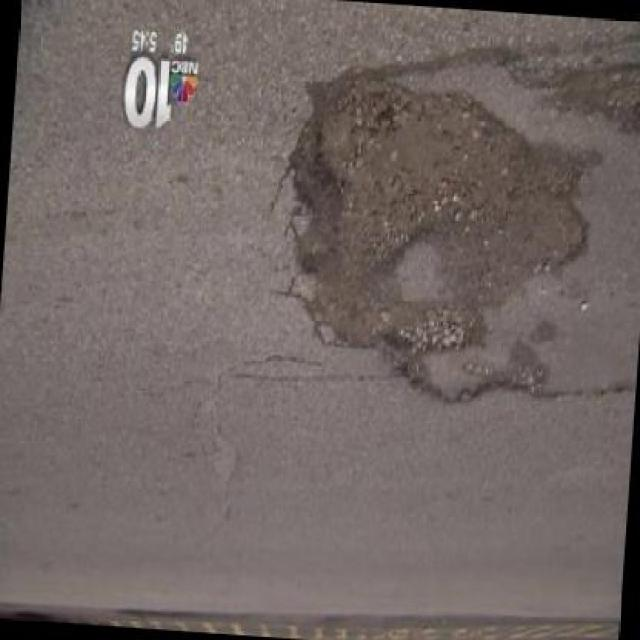pothole: (276, 72, 607, 414)
